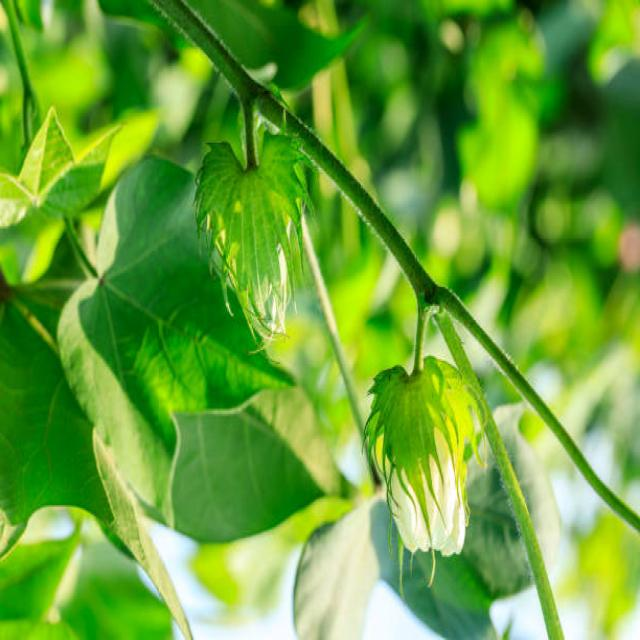Cotton Blossom: (347, 356, 483, 561)
Cotton Bud: (204, 142, 316, 336)
